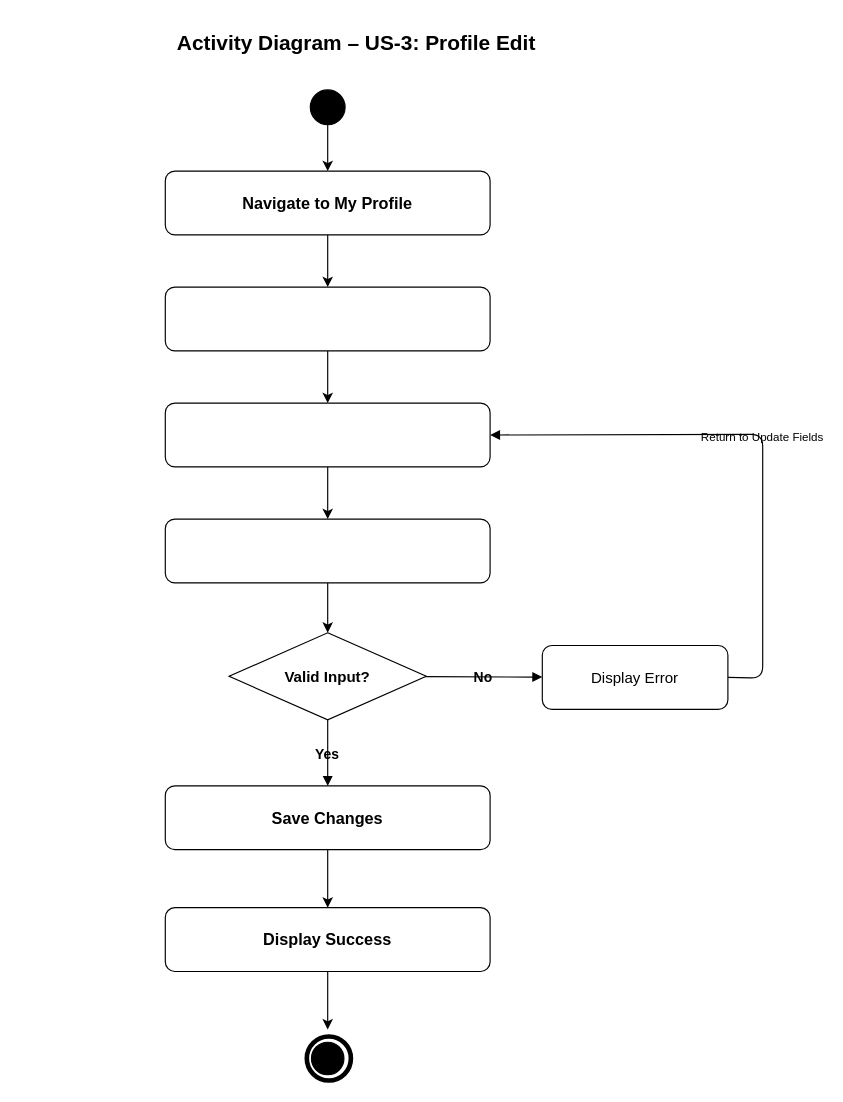
The diagram is 843 pixels wide and 1102 high, and some of its shapes have lost their labels. Here are the shapes that lost their labels. From the top down, the box of each, then its label:
(164, 286, 490, 351): Click Edit
(164, 402, 490, 467): Update Fields
(164, 518, 490, 583): Submit
